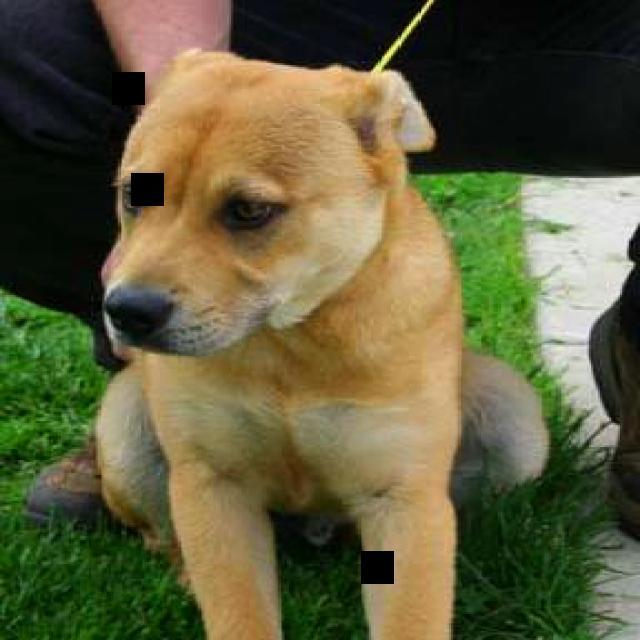puppy-dog: (16, 36, 568, 640)
